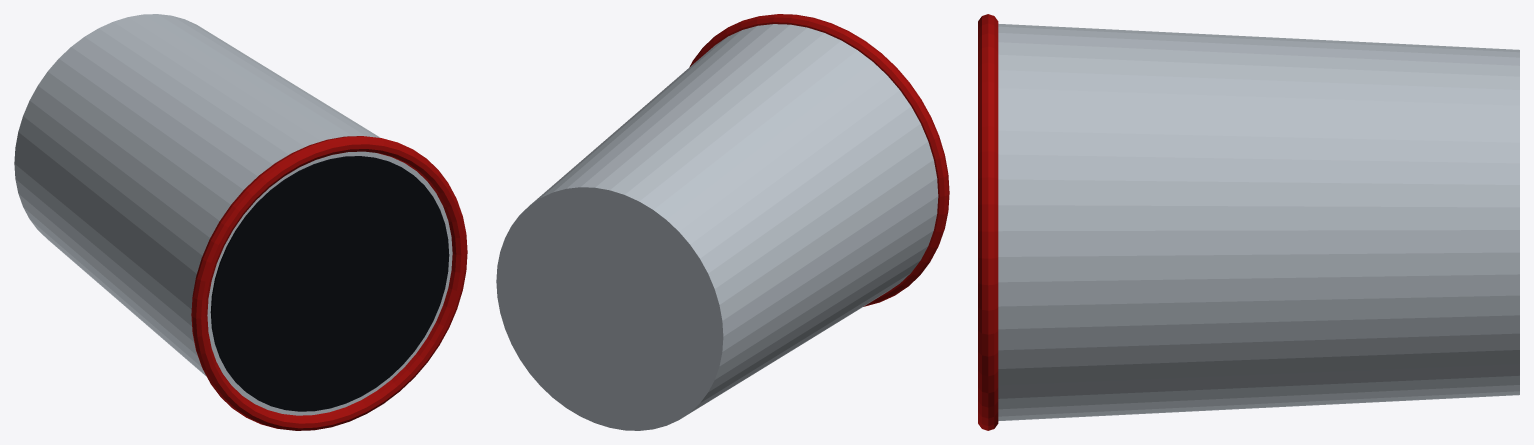
Rendered from waste_bucket.obj.
3 renders of one model, left to right at view 1: azimuth 30°, elevation 25°; view 2: azimuth 150°, elevation 25°; view 3: azimuth 270°, elevation 25°, orthographic. The views are drawn at different scales.
Parts seen in each view (by area): view 1: Waste_Bucket_Body.001, Waste_Bucket_Opening.001, Waste_Bucket_Rim.001; view 2: Waste_Bucket_Body.001, Waste_Bucket_Rim.001; view 3: Waste_Bucket_Body.001, Waste_Bucket_Rim.001.
Part boxes in pixels (left/top/right/bottom): Waste_Bucket_Body.001: left=14, top=14, right=452, bottom=415; Waste_Bucket_Opening.001: left=210, top=156, right=449, bottom=411; Waste_Bucket_Rim.001: left=191, top=136, right=467, bottom=430; Waste_Bucket_Body.001: left=496, top=24, right=938, bottom=430; Waste_Bucket_Rim.001: left=689, top=14, right=949, bottom=306; Waste_Bucket_Body.001: left=998, top=23, right=1519, bottom=421; Waste_Bucket_Rim.001: left=978, top=14, right=998, bottom=430.
Bounding box in the file's own units: 0.157 × 0.157 × 0.2038.
